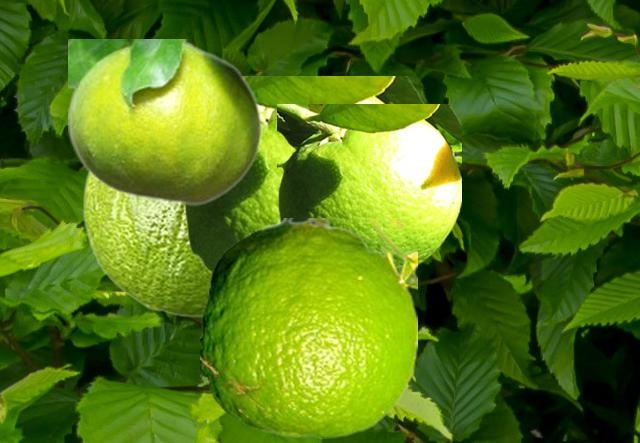dalandan: (183, 76, 422, 274), (200, 218, 416, 437), (68, 39, 262, 205), (277, 104, 460, 270), (82, 172, 209, 316)
